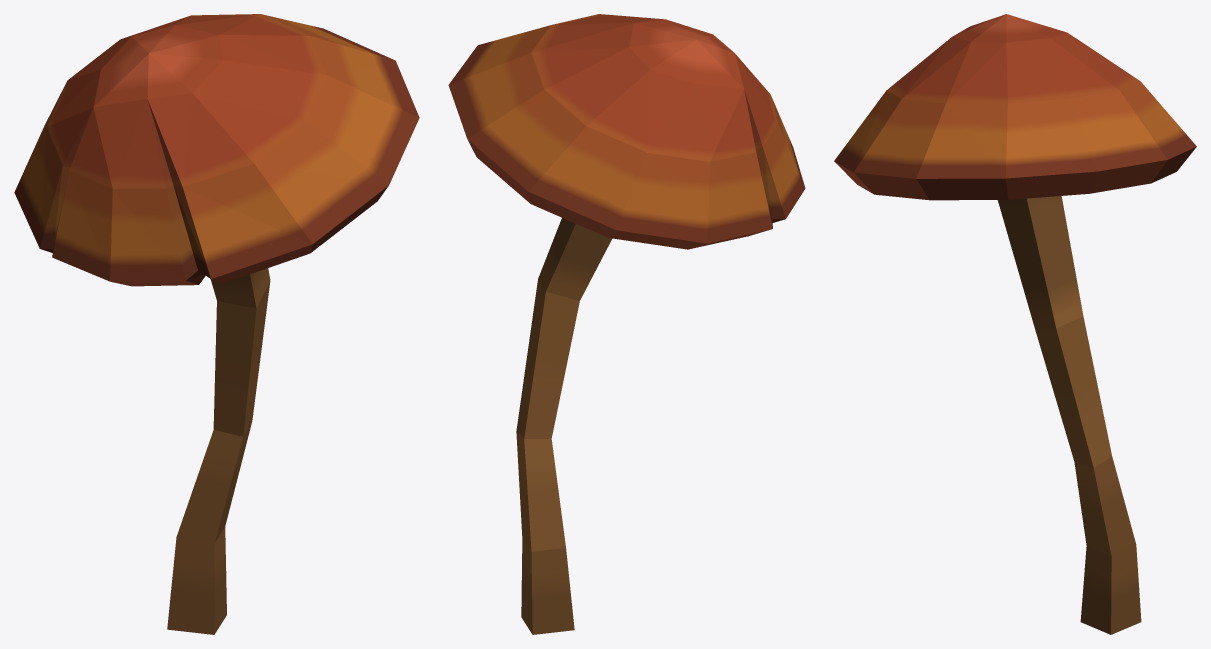
The model's file is um_mushroom003.FBX.
3 renders of one model, left to right at view 1: azimuth 30°, elevation 25°; view 2: azimuth 150°, elevation 25°; view 3: azimuth 270°, elevation 25°, orthographic. The views are drawn at different scales.
Parts seen in each view (by area): view 1: um_mushroom003; view 2: um_mushroom003; view 3: um_mushroom003.
Part boxes in pixels (<box>): um_mushroom003: <box>14,14,419,634</box>; um_mushroom003: <box>448,14,805,634</box>; um_mushroom003: <box>834,14,1196,634</box>.
Size of the model in its own units: 0.9664 by 1.71 by 1.
